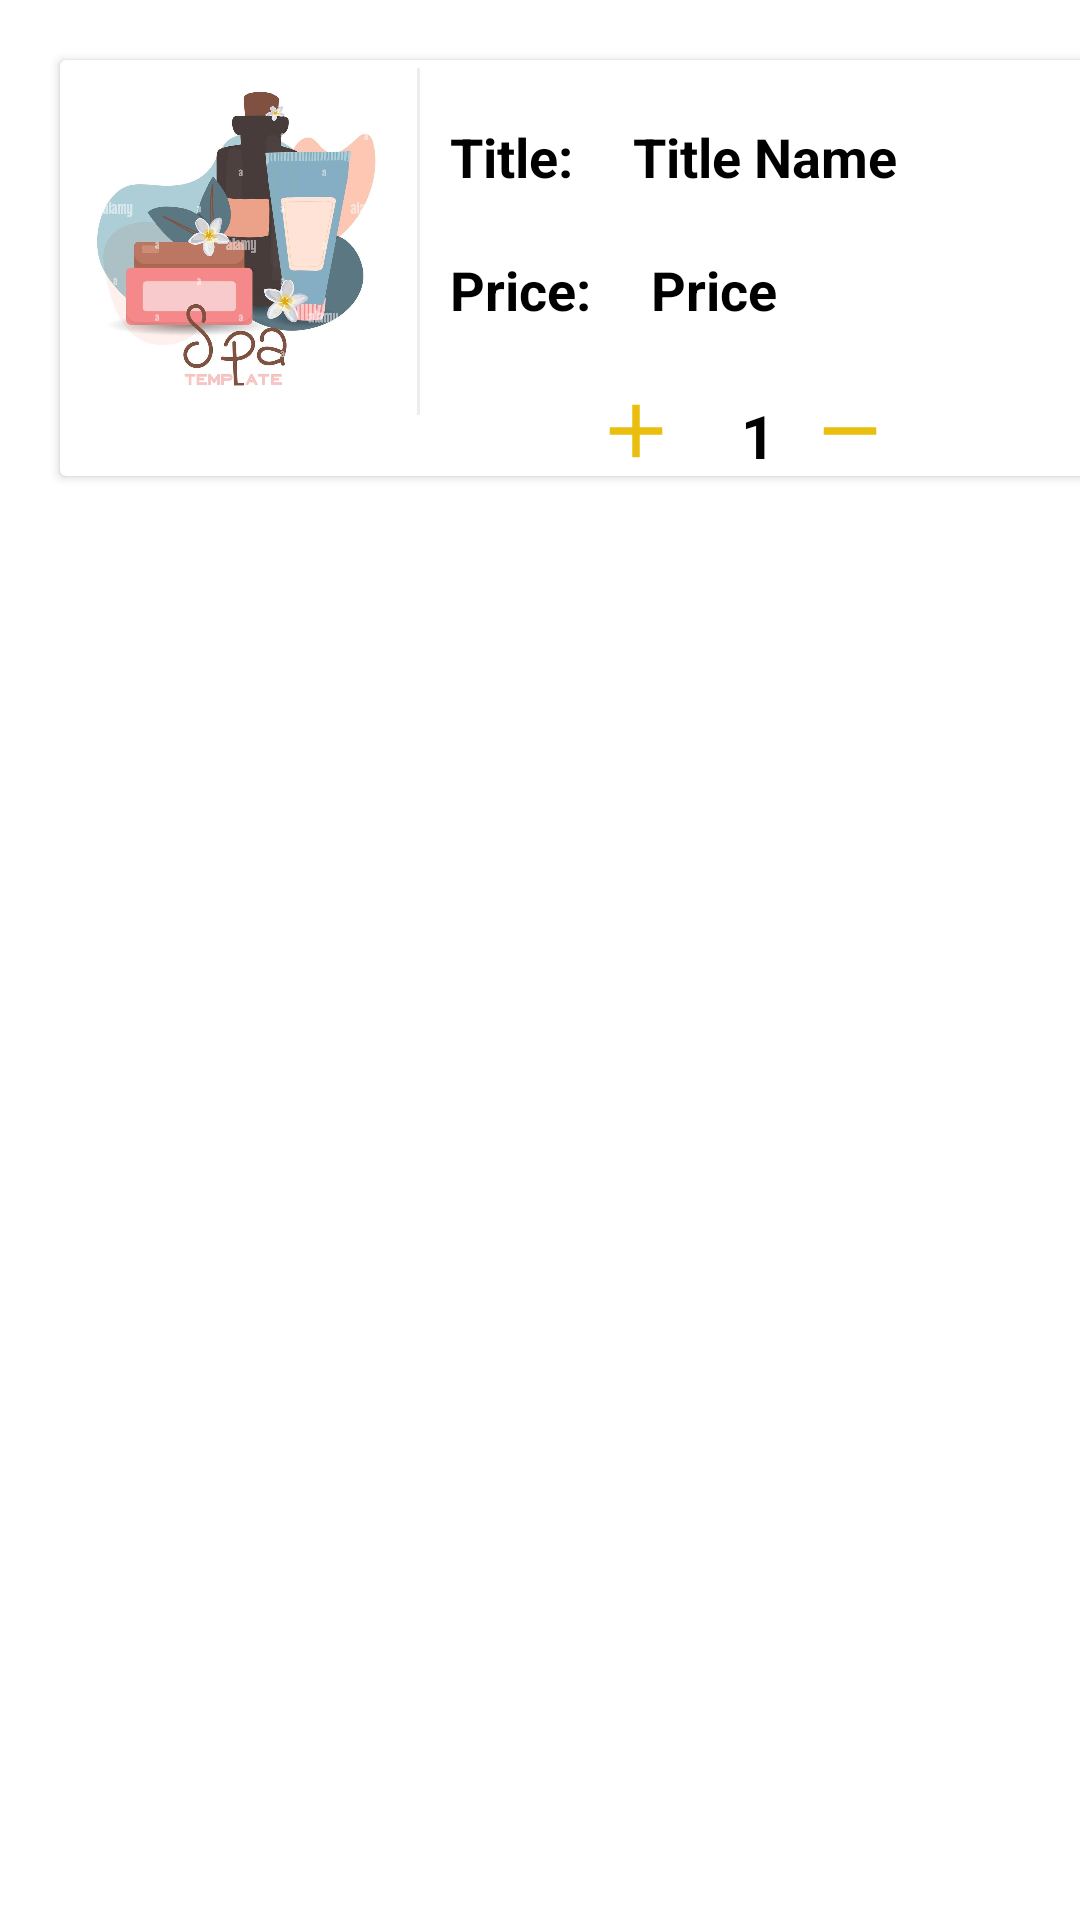

Icons on this 1080*1920 Android screen, each with the point to tap as (x=x, y=y):
add: (x=636, y=431)
